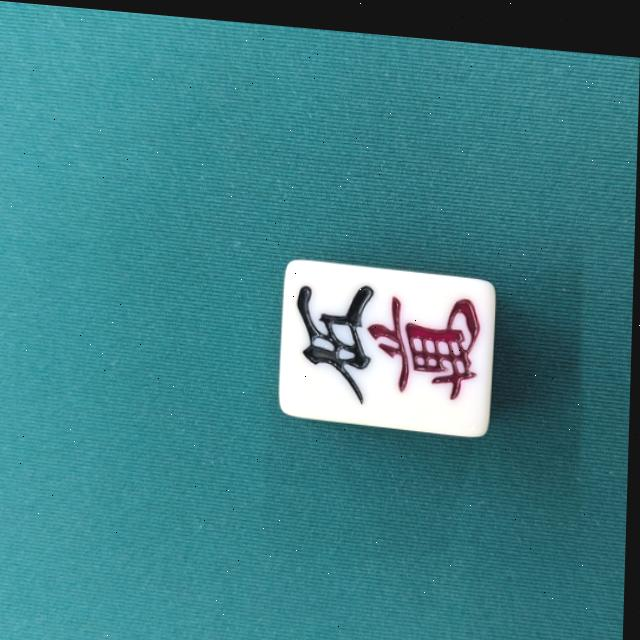5m: (281, 253, 500, 430)
